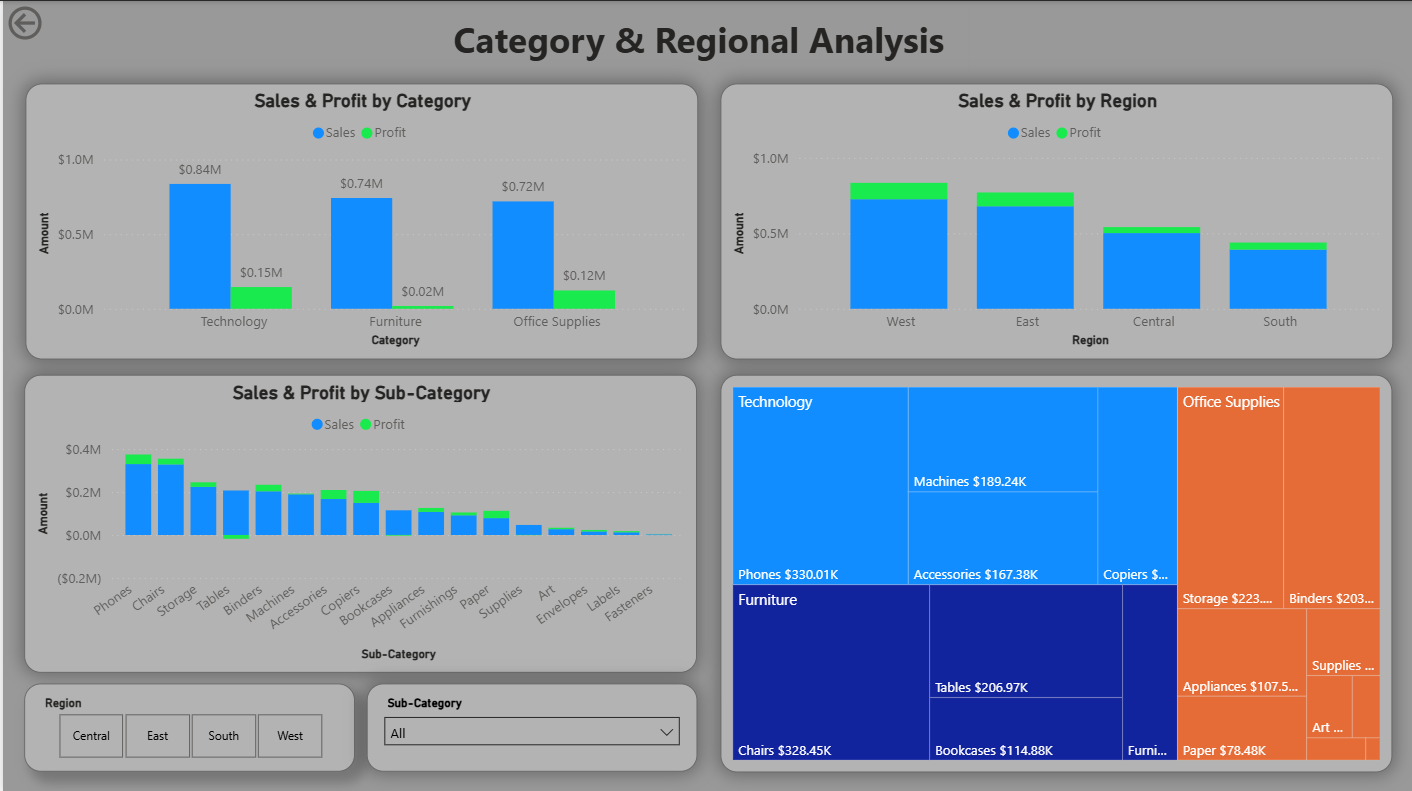

The dashboard page shown, as its layout file describes it:
{"tool":"powerbi","page":{"name":"Category and Region","canvas":[1280,720],"ordinal":1},"visuals":[{"type":"textbox","box":[403.5,8.1,472.1,59.3],"z":0},{"type":"clusteredColumnChart","title":"Sales & Profit by Category","fields":{"Category":["Superstore_clean.Category"],"Y":["Sum(Superstore_clean.Sales)","Sum(Superstore_clean.Profit)"]},"box":[20,75,610.5,250],"z":1},{"type":"columnChart","title":"Sales & Profit by Region","fields":{"Category":["Superstore_clean.Region"],"Y":["Sum(Superstore_clean.Sales)","Sum(Superstore_clean.Profit)"]},"box":[651,74.9,610.2,249.5],"z":2},{"type":"columnChart","title":"Sales & Profit by Sub-Category","fields":{"Category":["Superstore_clean.Sub-Category"],"Y":["Sum(Superstore_clean.Sales)","Sum(Superstore_clean.Profit)"]},"box":[19.8,339.5,610.5,270],"z":3},{"type":"treemap","fields":{"Details":["Superstore_clean.Sub-Category"],"Group":["Superstore_clean.Category"],"Values":["Sum(Superstore_clean.Sales)"]},"box":[651.2,339.5,609.3,360.5],"z":4},{"type":"actionButton","box":[0,0,100,40],"z":5},{"type":"slicer","fields":{"Values":["Superstore_clean.Region"]},"box":[19.8,619.8,300,80.2],"z":6},{"type":"slicer","fields":{"Values":["Superstore_clean.Sub-Category"]},"box":[330.2,619.8,300,80.2],"z":7},{"type":"actionButton","box":[1180.7,0,99.8,39.7],"z":8}]}

Visuals, with their boxes in screenshot pixels (x1, y1, x2, y2), scaled from the page's 1280x720 canvas onto the 1412x791 screenshot:
textbox: 445 9 966 74
"Sales & Profit by Category" clusteredColumnChart: 22 82 696 357
"Sales & Profit by Region" columnChart: 718 82 1391 356
"Sales & Profit by Sub-Category" columnChart: 22 373 695 670
treemap - Superstore_clean.Sub-Category x Superstore_clean.Category: 718 373 1390 769
actionButton: 0 0 110 44
slicer - Superstore_clean.Region: 22 681 353 769
slicer - Superstore_clean.Sub-Category: 364 681 695 769
actionButton: 1302 0 1411 44
